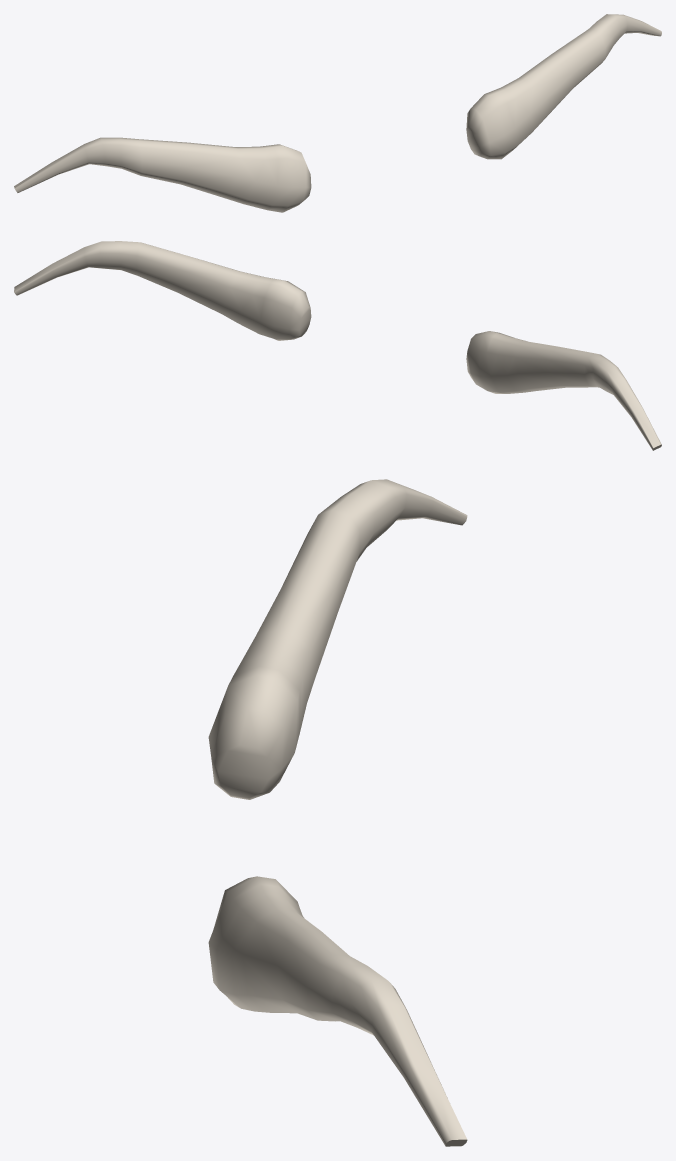
Rendered from Eyebrows_12_07.fbx.
3 renders of one model, top to bottom at view 1: azimuth 30°, elevation 25°; view 2: azimuth 150°, elevation 25°; view 3: azimuth 270°, elevation 25°, orthographic. The views are drawn at different scales.
Parts seen in each view (by area): view 1: Eyebrows_12_07; view 2: Eyebrows_12_07; view 3: Eyebrows_12_07.
Boxes of the visible parts, bbox=[...] form: Eyebrows_12_07: bbox=[14, 14, 661, 212]; Eyebrows_12_07: bbox=[14, 241, 661, 450]; Eyebrows_12_07: bbox=[208, 479, 467, 1146].
Size of the model in its own units: 19.63 by 2.48 by 3.4.
